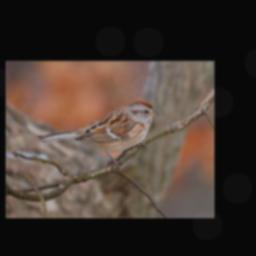Sparrow: (37, 99, 161, 169)
